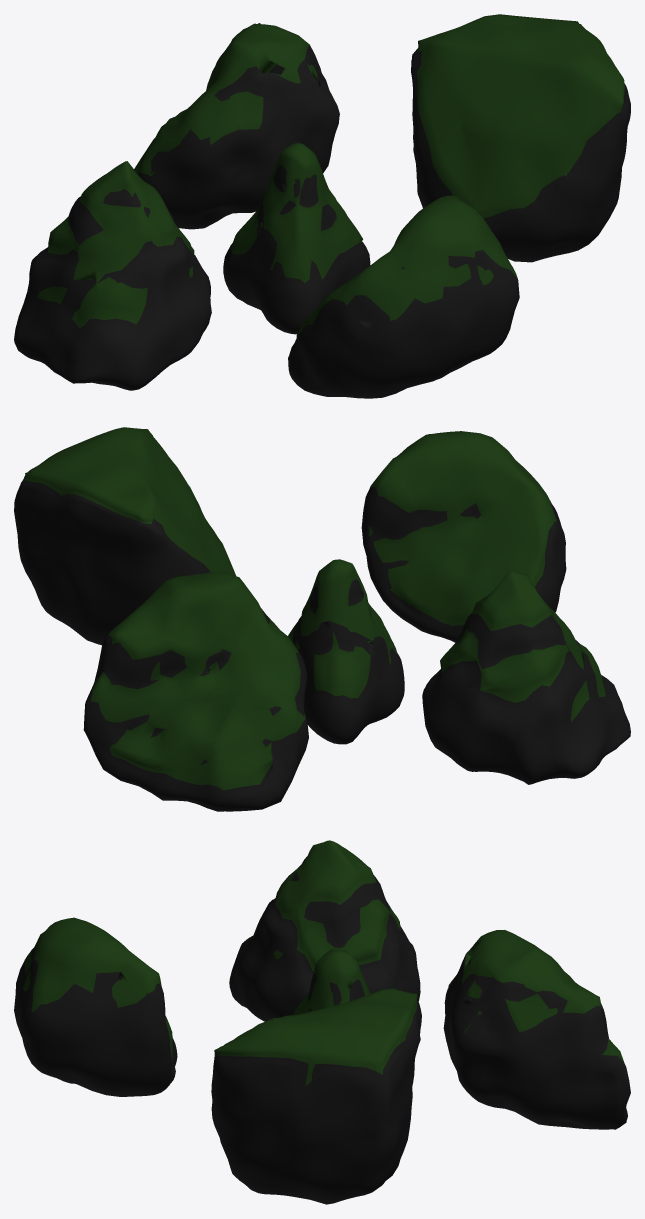
The model's file is rocks.fbx.
3 views of the same model, one above another, from view 1: azimuth 30°, elevation 25°; view 2: azimuth 150°, elevation 25°; view 3: azimuth 270°, elevation 25° (orthographic). The views are drawn at different scales.
Visible parts, largest first — view 1: Rock_1, Rock_3, Rock_2, Rock_4, Rock_5; view 2: Rock_4, Rock_2, Rock_1, Rock_3, Rock_5; view 3: Rock_1, Rock_4, Rock_2, Rock_3, Rock_5.
Part boxes in pixels (x1,y1,x2,y2): Rock_1: [411, 14, 630, 262]; Rock_3: [14, 161, 211, 390]; Rock_2: [288, 195, 519, 398]; Rock_4: [134, 23, 339, 229]; Rock_5: [223, 142, 370, 334]; Rock_4: [83, 572, 308, 811]; Rock_2: [361, 431, 566, 642]; Rock_1: [14, 427, 235, 645]; Rock_3: [422, 571, 630, 784]; Rock_5: [288, 559, 404, 744]; Rock_1: [211, 988, 421, 1204]; Rock_4: [443, 930, 630, 1129]; Rock_2: [14, 917, 177, 1096]; Rock_3: [229, 840, 420, 1021]; Rock_5: [293, 949, 370, 1015].
Size of the model in its own units: 967 by 346 by 915.
